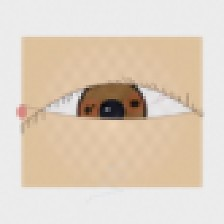foreign_body_visible: (84, 98, 103, 114)
